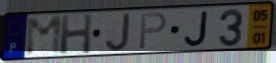3: (217, 7, 244, 48)
H: (58, 12, 94, 56)
J: (104, 12, 132, 53), (183, 10, 210, 48)
M: (24, 14, 65, 57)
P: (137, 11, 169, 51)
